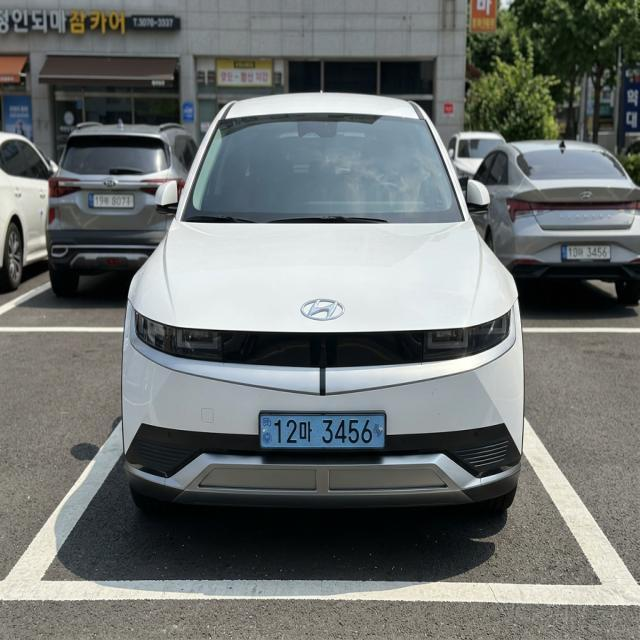car: (246, 400, 404, 471)
carev: (371, 412, 388, 458), (258, 410, 274, 454)
